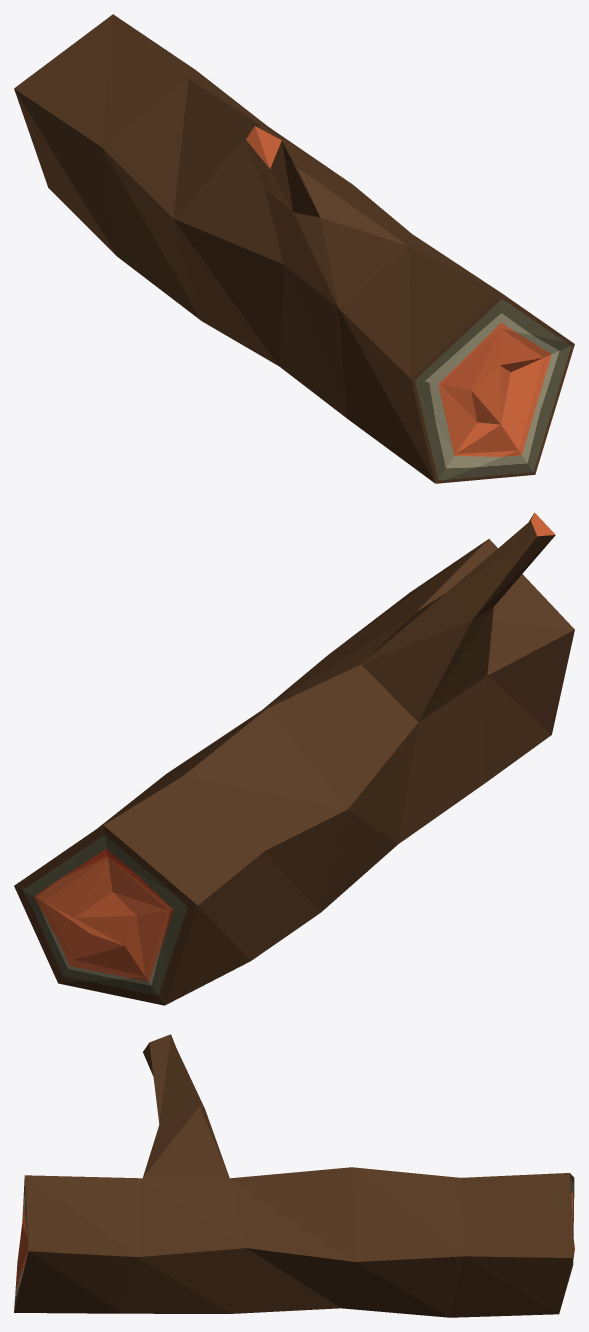
Rendered from Log.FBX.
3 renders of one model, top to bottom at view 1: azimuth 30°, elevation 25°; view 2: azimuth 150°, elevation 25°; view 3: azimuth 270°, elevation 25°, orthographic. The views are drawn at different scales.
Visible parts, largest first — view 1: Cylinder001; view 2: Cylinder001; view 3: Cylinder001.
Part boxes in pixels (box(x1,y1,x2,y2)): Cylinder001: box(14, 14, 574, 483); Cylinder001: box(14, 512, 574, 1005); Cylinder001: box(14, 1034, 574, 1317).
Size of the model in its own units: 27.93 by 35.29 by 81.03.
Materials: 1 (1 with a texture image).
